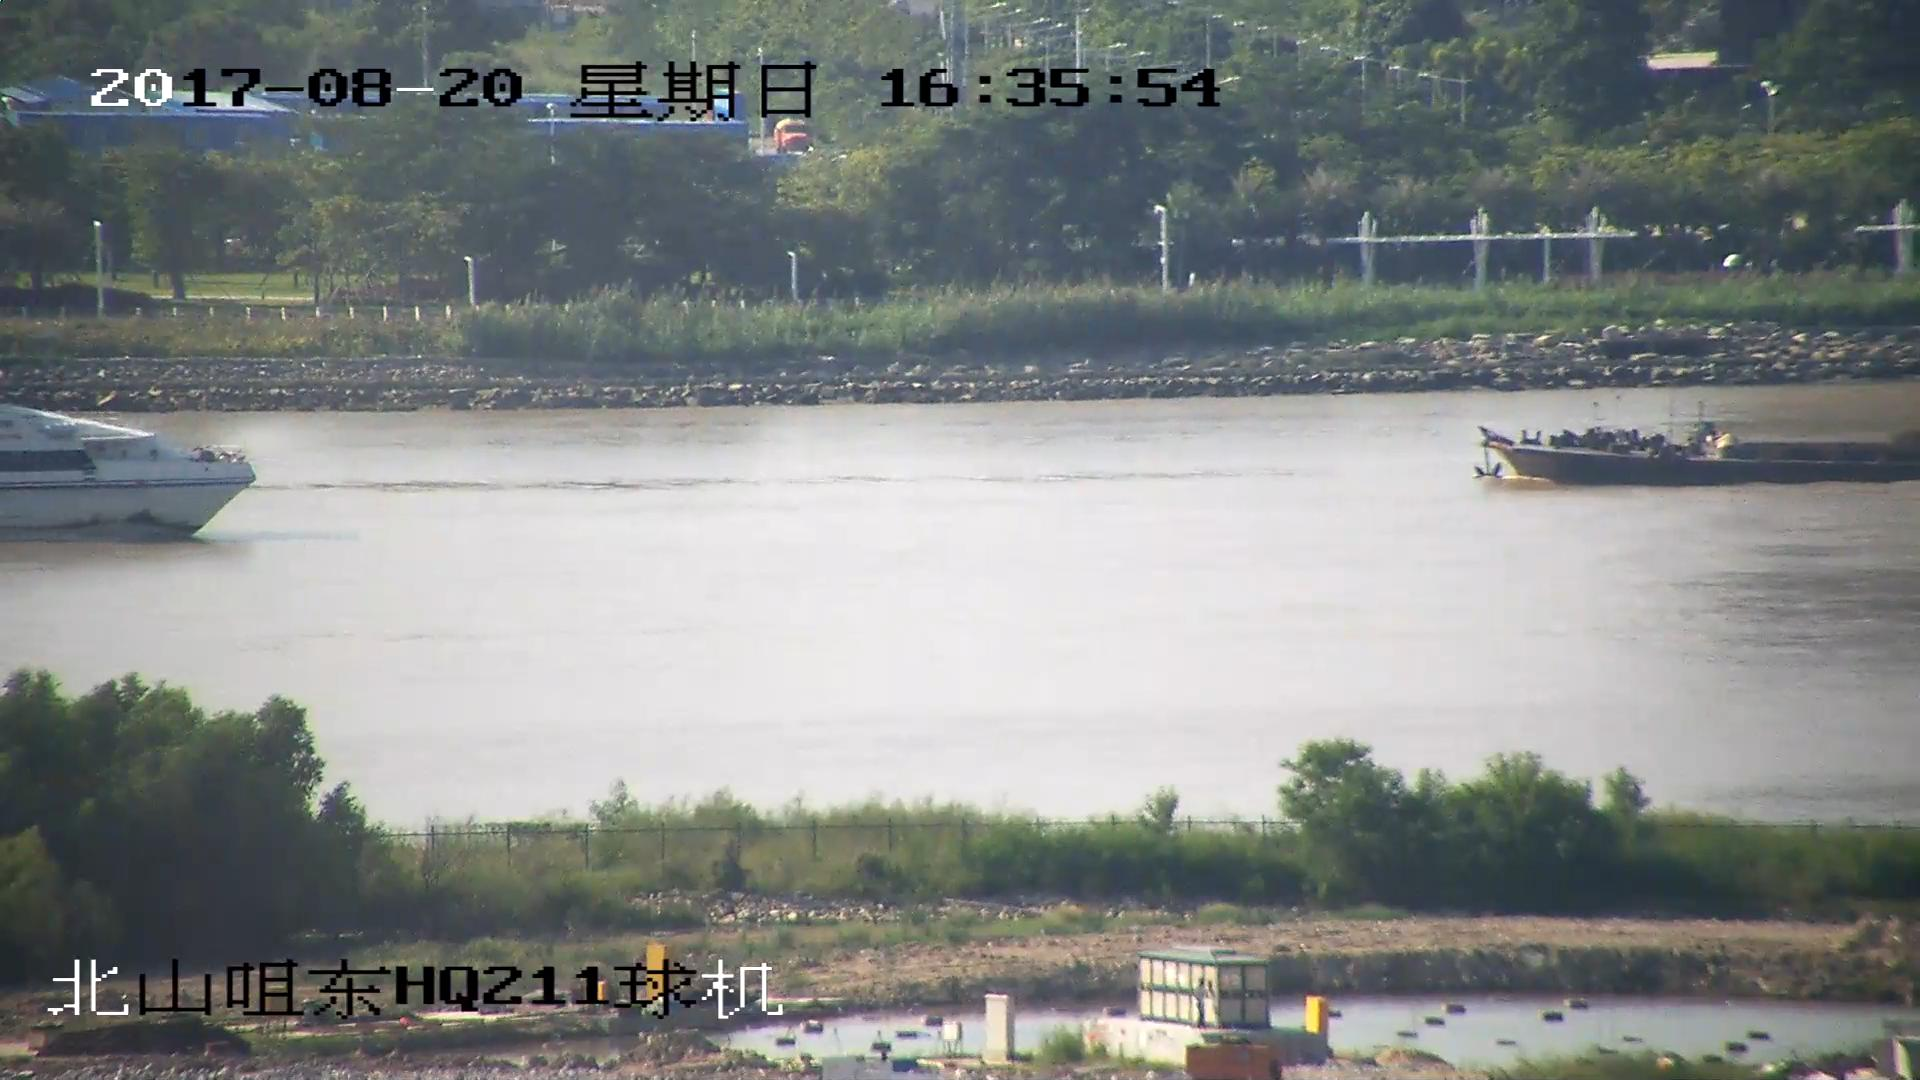ore carrier: (1476, 415, 1920, 492)
passenger ship: (1, 392, 262, 545)
